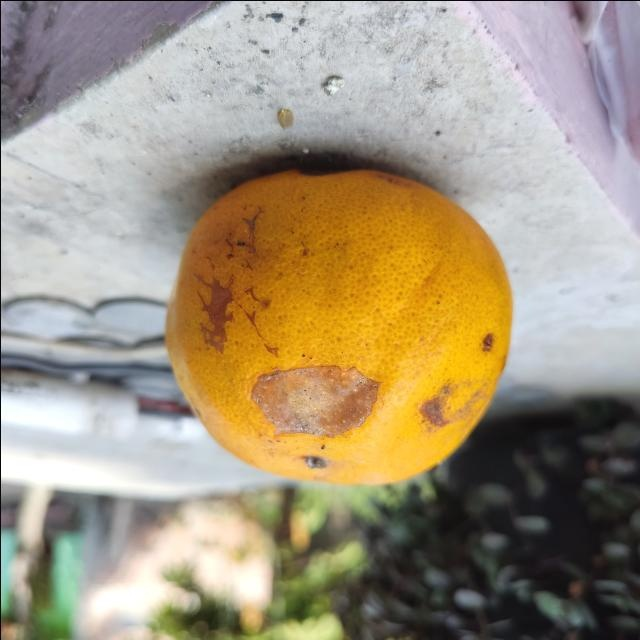agrume: (163, 166, 513, 489)
